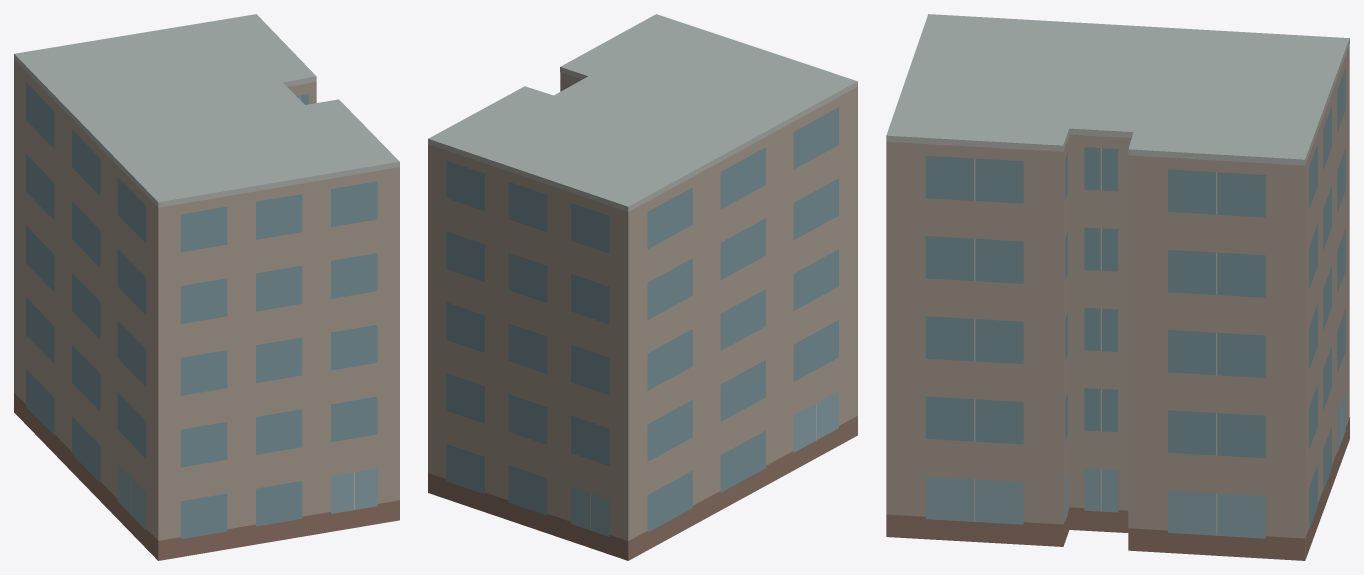
File: survey-upis-32633901.glb
3 renders of one model, left to right at view 1: azimuth 30°, elevation 25°; view 2: azimuth 150°, elevation 25°; view 3: azimuth 270°, elevation 25°, orthographic. The views are drawn at different scales.
Visible parts, largest first — view 1: survey-upis-32633901.tmp; view 2: survey-upis-32633901.tmp; view 3: survey-upis-32633901.tmp.
Boxes of the visible parts, x1,y1,x2,y2 form: survey-upis-32633901.tmp: [14, 14, 399, 560]; survey-upis-32633901.tmp: [428, 14, 857, 560]; survey-upis-32633901.tmp: [886, 14, 1349, 560].
Bounding box in the file's own units: 12.54 × 16.1 × 16.86.
